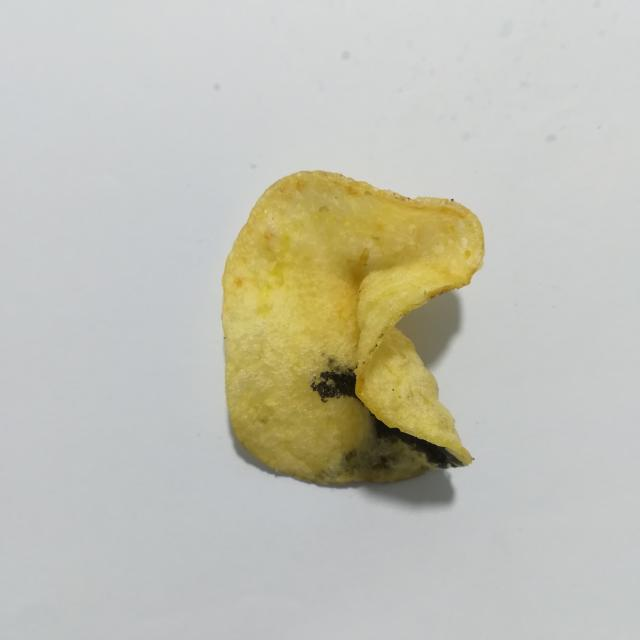chip: (222, 171, 484, 485)
damaged: (369, 412, 463, 469), (310, 367, 364, 406)
semi-damaged: (312, 434, 435, 486)
